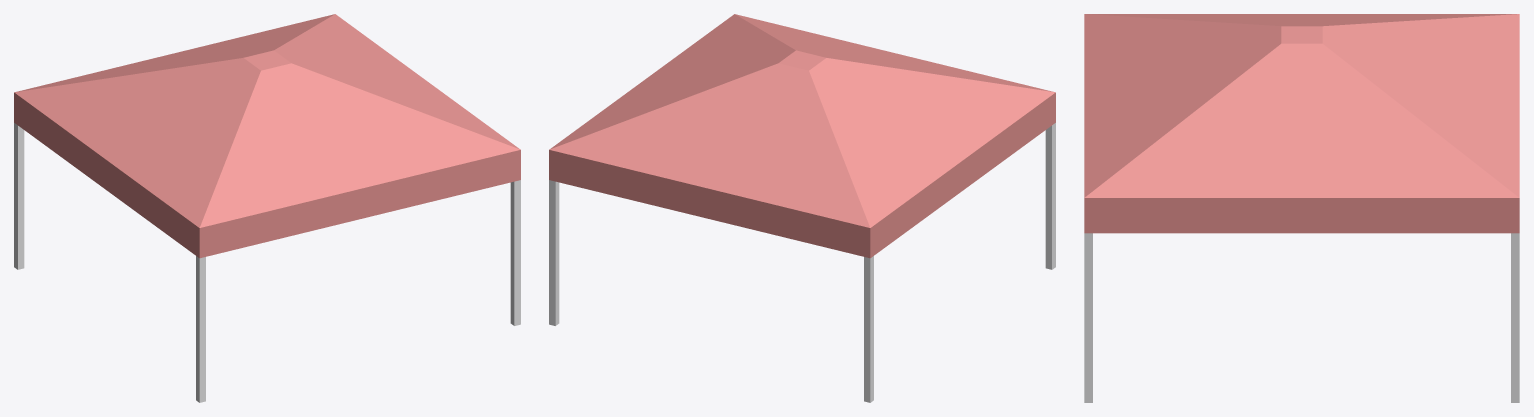
File: race_tent.glb
3 views of the same model, side by side, from view 1: azimuth 30°, elevation 25°; view 2: azimuth 150°, elevation 25°; view 3: azimuth 270°, elevation 25° (orthographic). The views are drawn at different scales.
Visible parts, largest first — view 1: tent(Clone); view 2: tent(Clone); view 3: tent(Clone).
Boxes of the visible parts, x1,y1,x2,y2 form: tent(Clone): (14, 14, 520, 402); tent(Clone): (549, 14, 1055, 402); tent(Clone): (1084, 14, 1519, 402).
Bounding box in the file's own units: 1 × 0.7 × 1.
